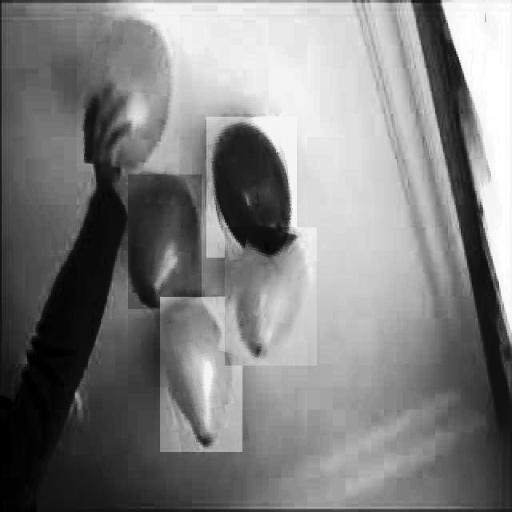balloon: (77, 15, 180, 171), (206, 116, 297, 258), (225, 227, 317, 366), (160, 297, 242, 452), (128, 174, 202, 309)
